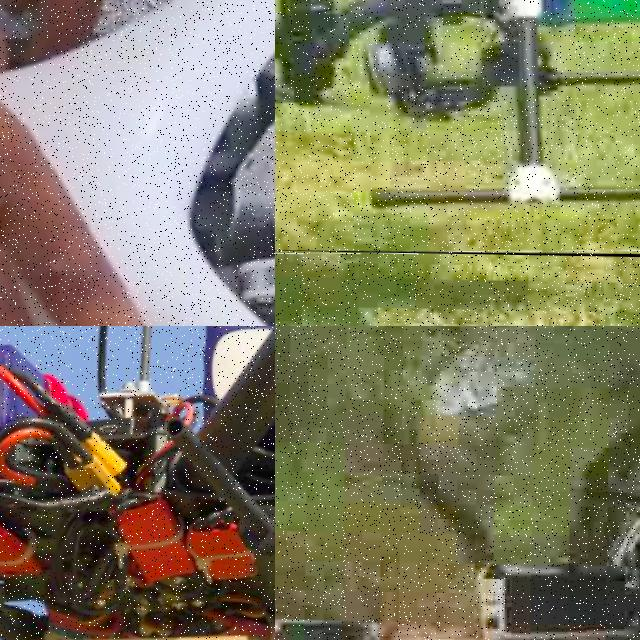drone: (275, 0, 640, 260), (0, 0, 275, 326), (0, 326, 275, 640)
